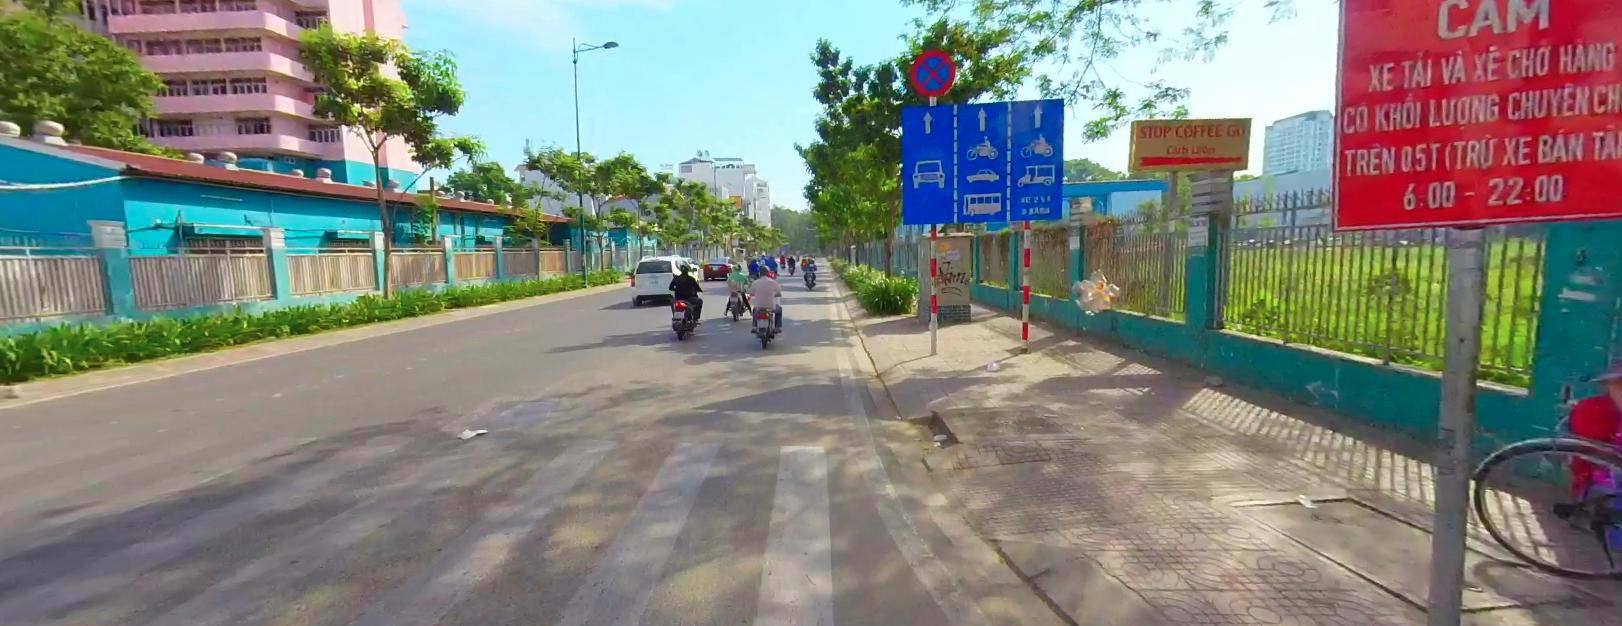Cam dung va do: (909, 50, 955, 94)
